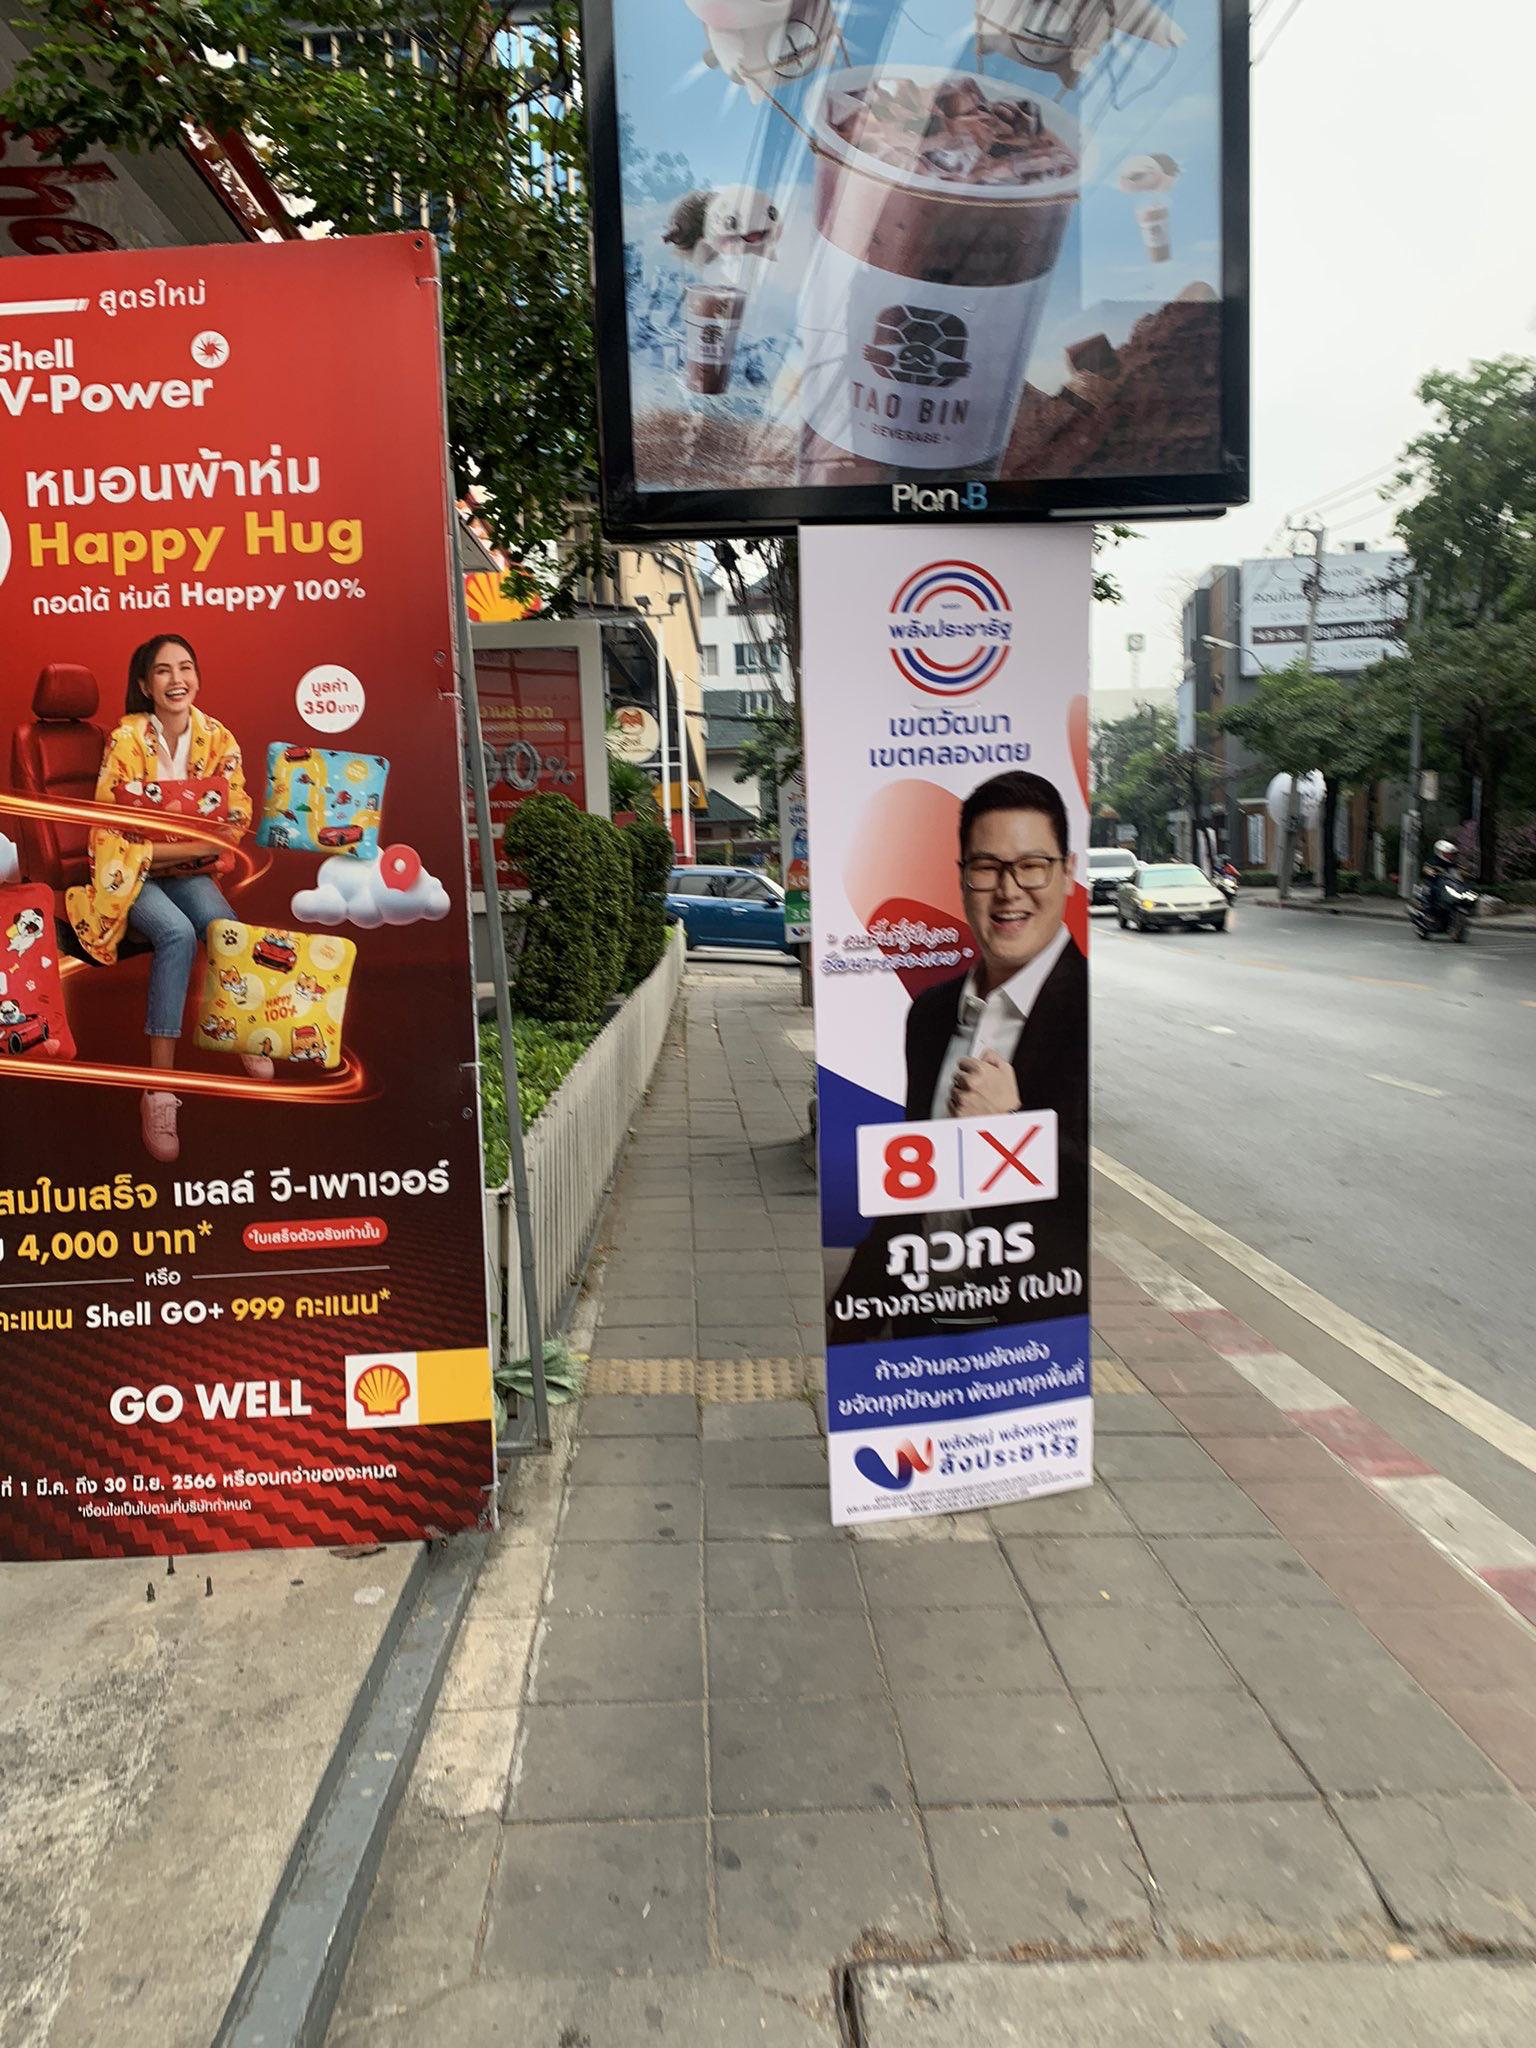Banner: (770, 522, 1100, 1538)
